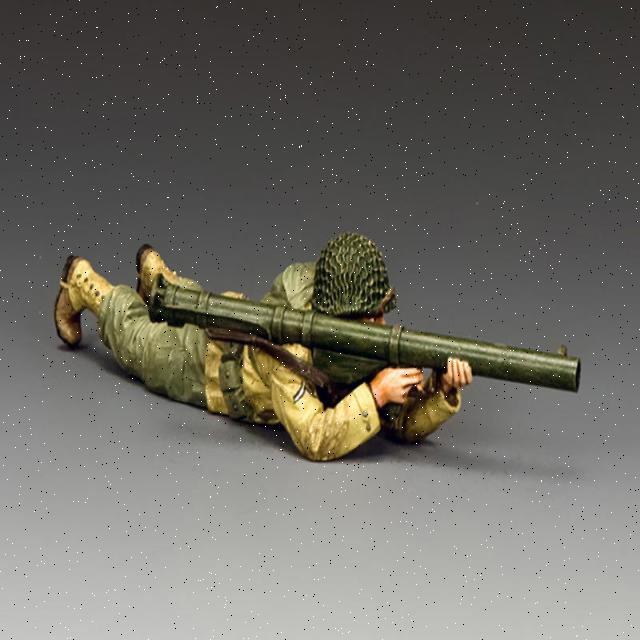bazooka: (147, 273, 590, 397)
